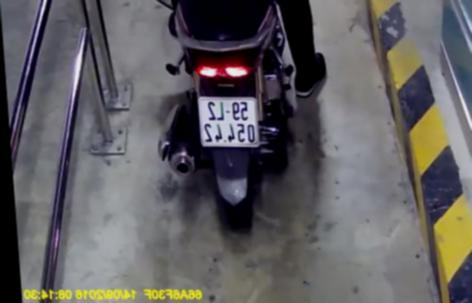License_Plate: (188, 94, 269, 154)
